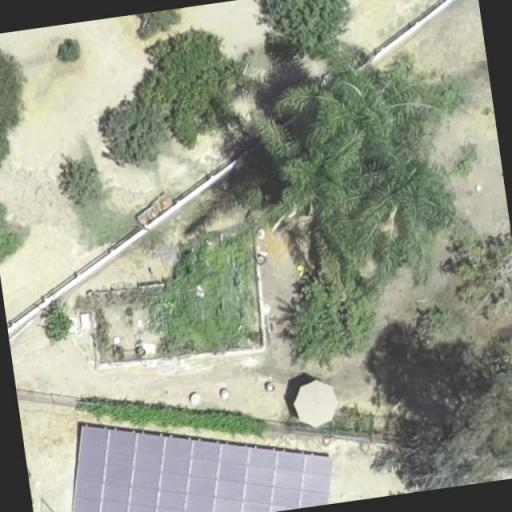solar-panel: (71, 424, 334, 512)
